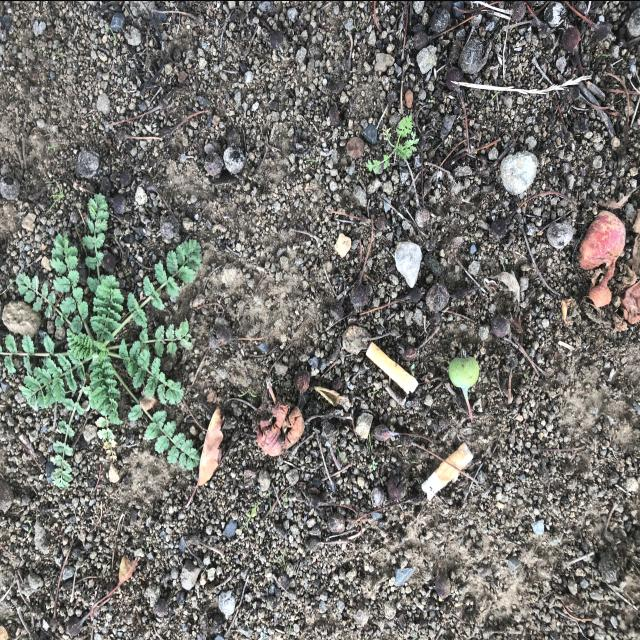Cigarette: (421, 441, 473, 500), (366, 341, 418, 392)
